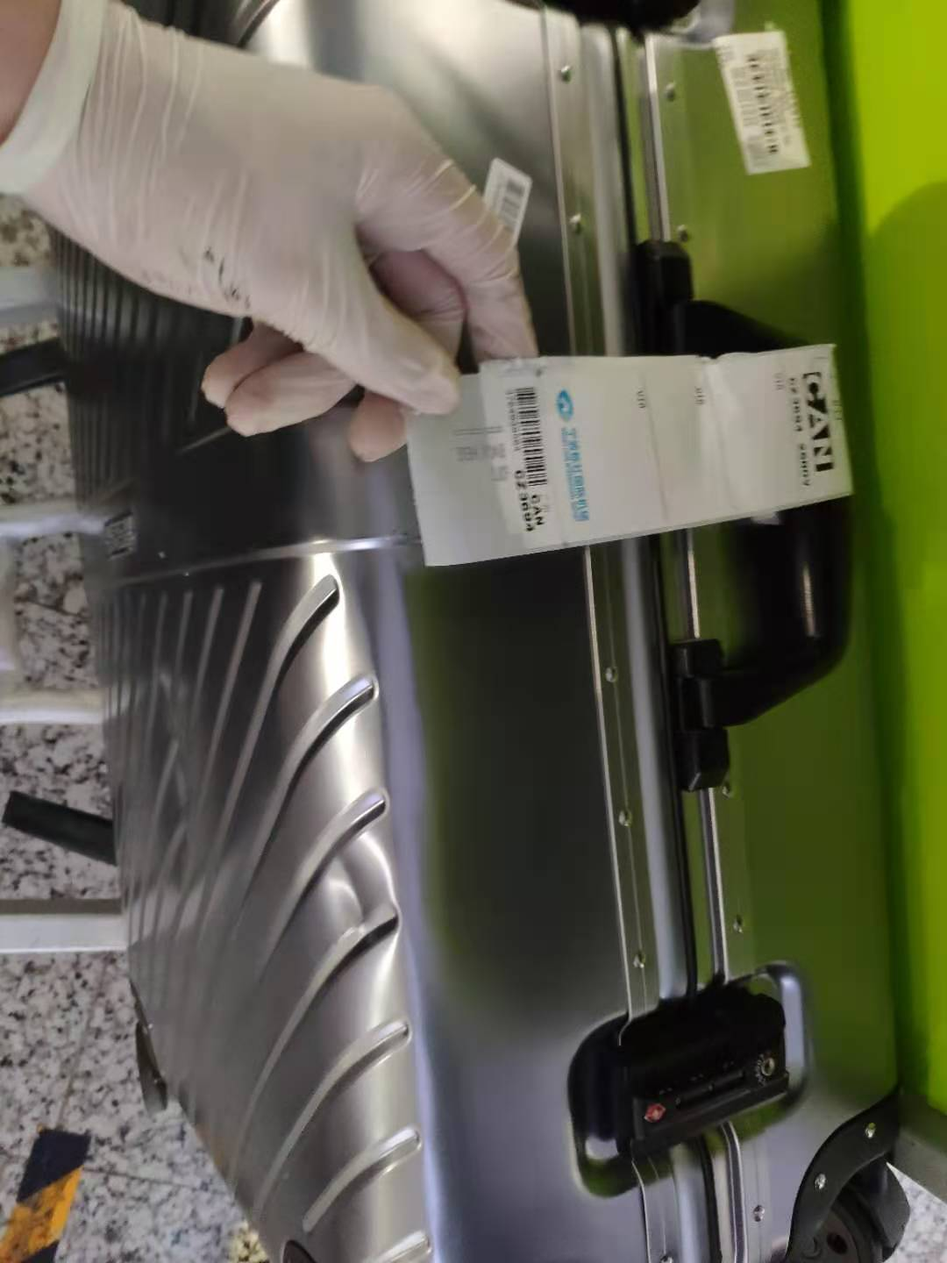rupture: (317, 830, 403, 942)
